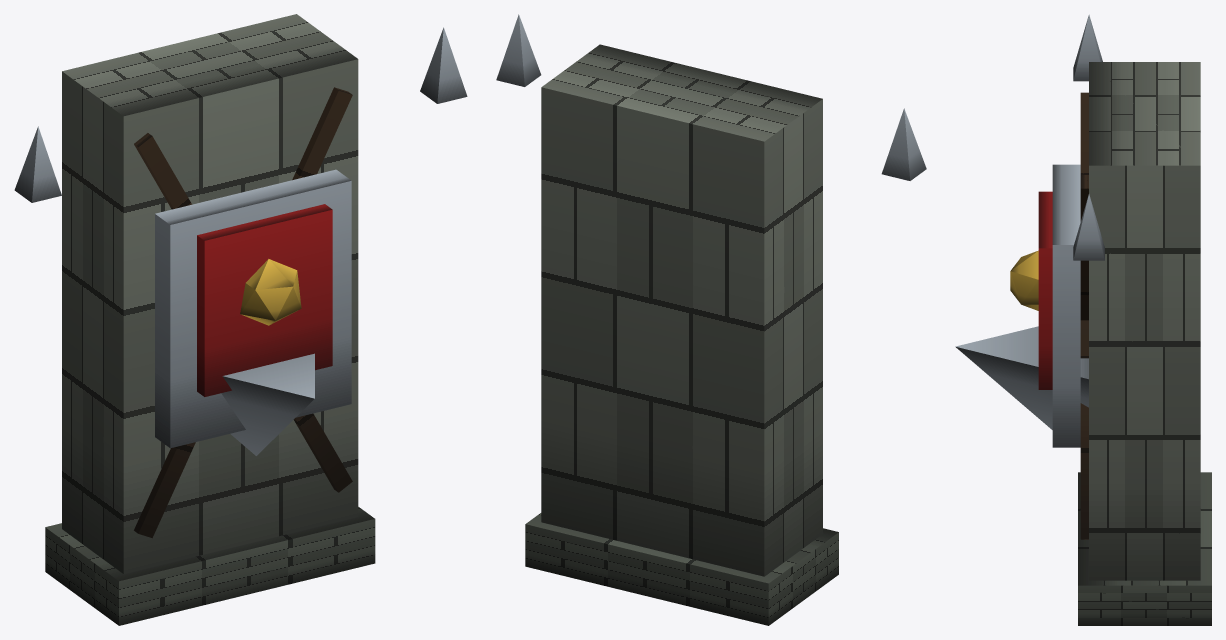
The model's file is shield.gltf.
3 views of the same model, side by side, from view 1: azimuth 30°, elevation 25°; view 2: azimuth 150°, elevation 25°; view 3: azimuth 270°, elevation 25° (orthographic). The views are drawn at different scales.
Visible parts, largest first — view 1: shield; view 2: shield; view 3: shield.
Part boxes in pixels (x1,y1,x2,y2): shield: (14,14,467,625); shield: (496,14,926,625); shield: (955,14,1211,625).
Size of the model in its own units: 0.8166 by 0.92 by 0.46.
Materials: 1 (1 with a texture image).
